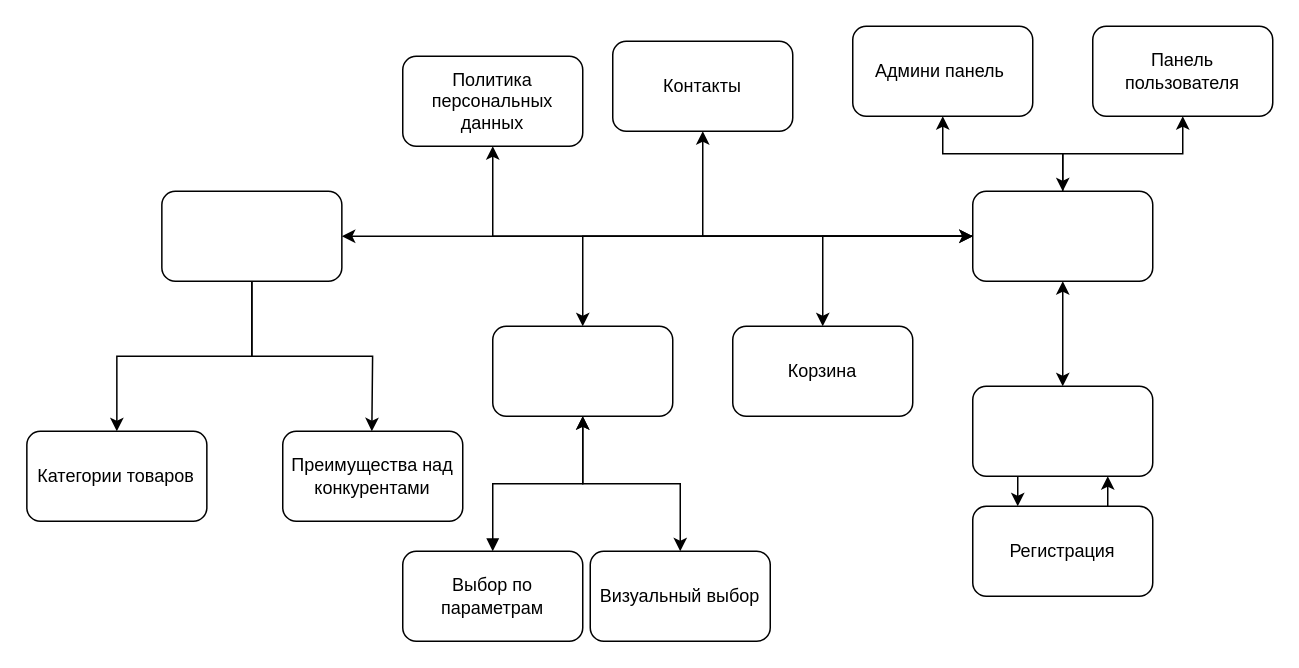
Image size: 1299x668. Some labels were removed from this diagram. Here are the shapes that lost their labels. From the top down, the box of each, then its label:
(160, 190, 342, 281): Главная страница сайта "Tech Haven"
(971, 190, 1153, 281): Профиль
(491, 325, 673, 416): Каталог товаров
(971, 385, 1153, 476): Авторизация
